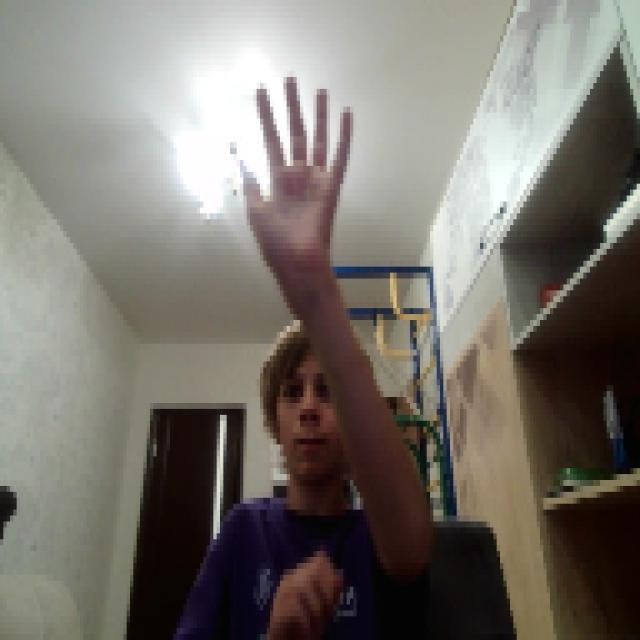hand: (230, 65, 350, 273)
